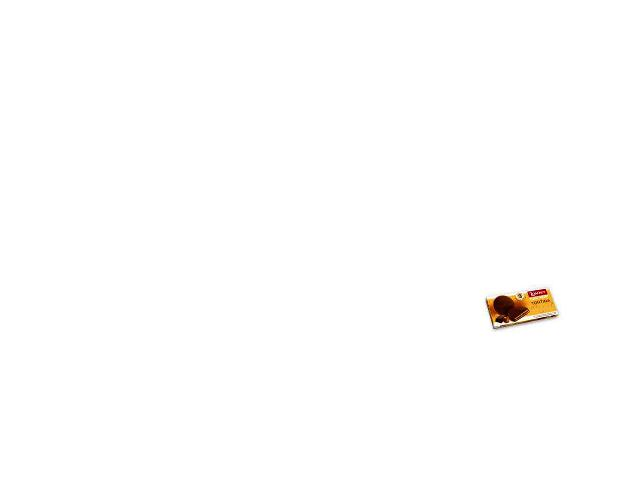chocolate: (481, 287, 569, 321)
